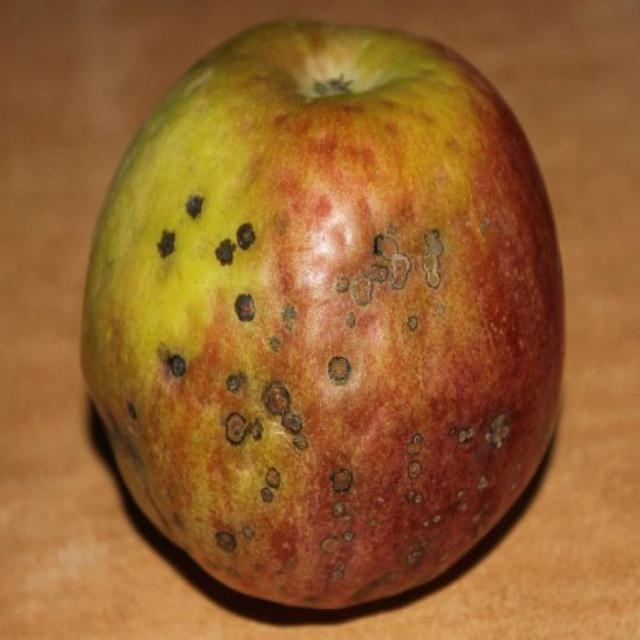Rotten: (78, 20, 565, 610)
